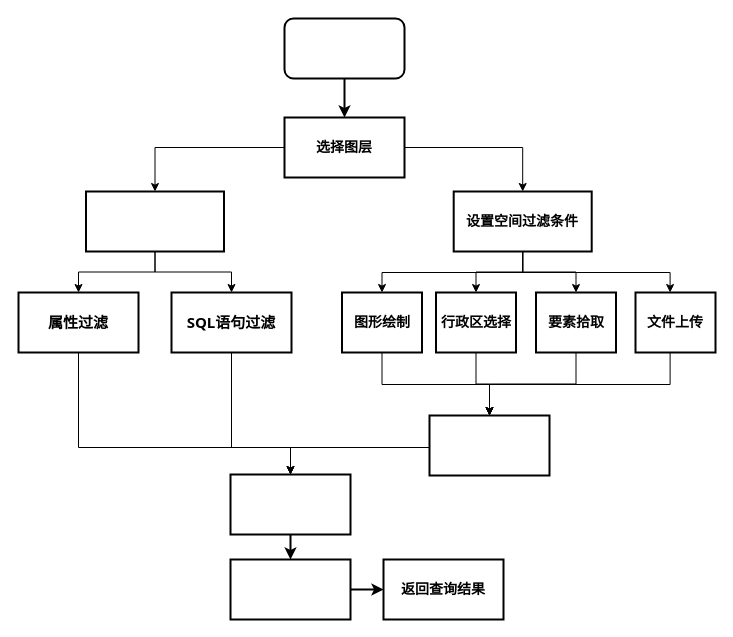
The diagram is 733 pixels wide and 637 high, and some of its shapes have lost their labels. Here are the shapes that lost their labels. From the top down, the centre of each, then its label:
the point at 344,48: 开始
the point at 154,221: 设置属性过滤条件
the point at 489,445: 设置查询条件：缓冲距离和查询关系
the point at 290,504: 触发查询操作
the point at 290,589: 查询请求发送到相应的服务
